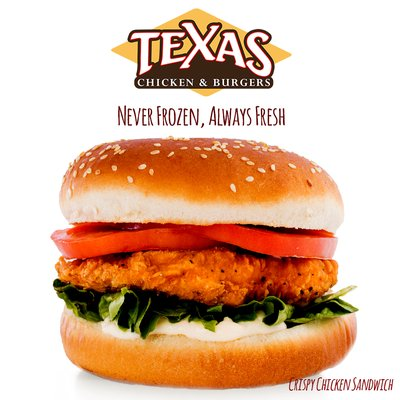soup: (48, 137, 349, 389)
